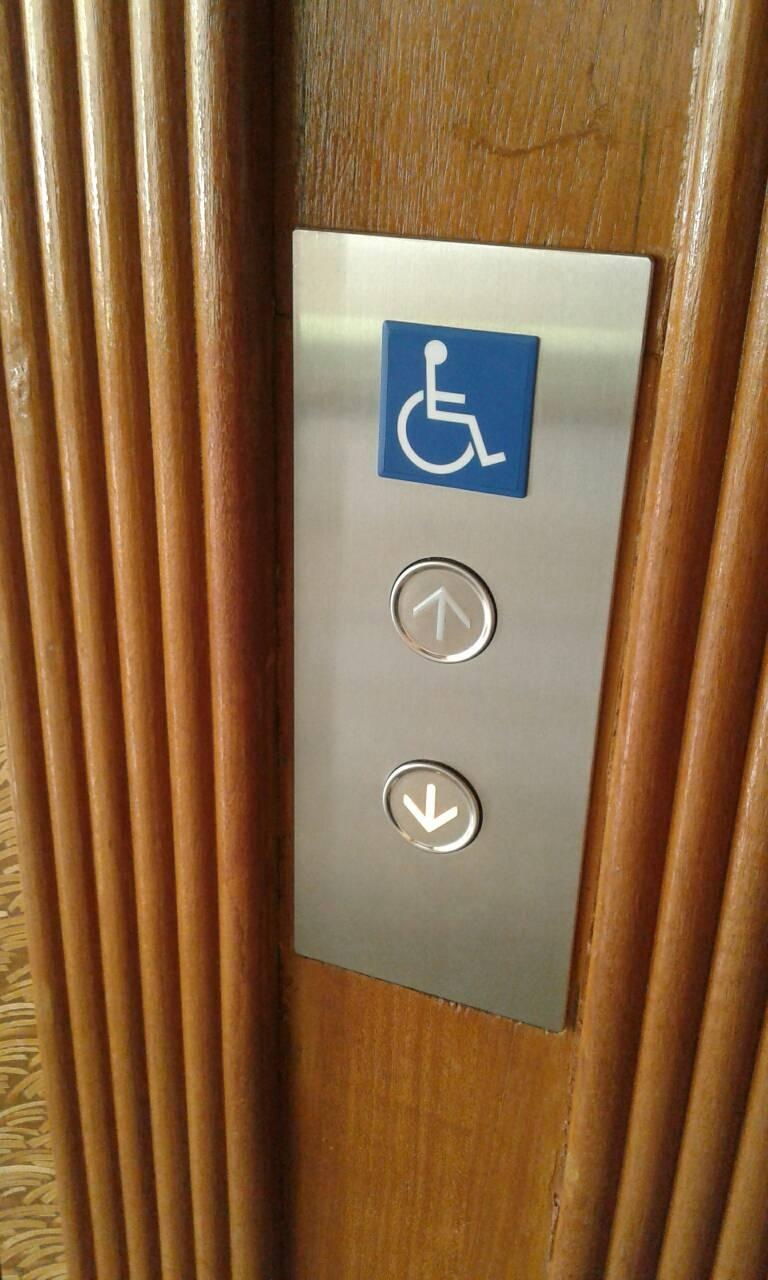CH: (371, 313, 544, 505)
down: (381, 758, 486, 856)
up: (389, 553, 500, 667)
